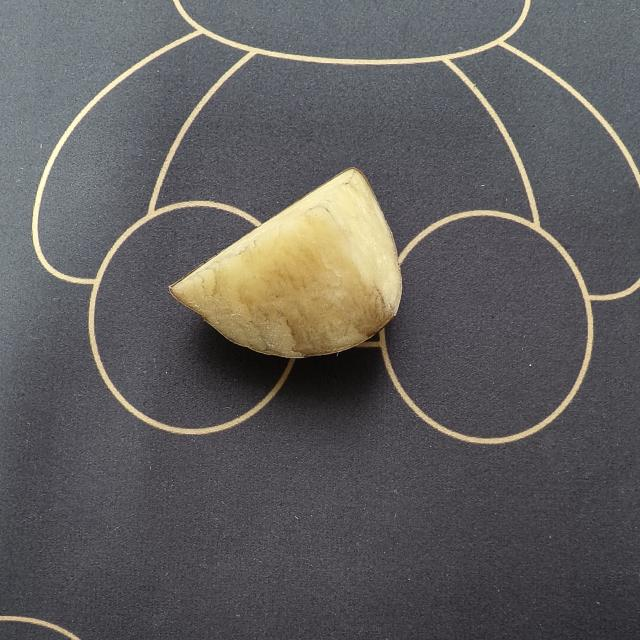-Kitchen waste - potato-: (170, 165, 403, 361)
